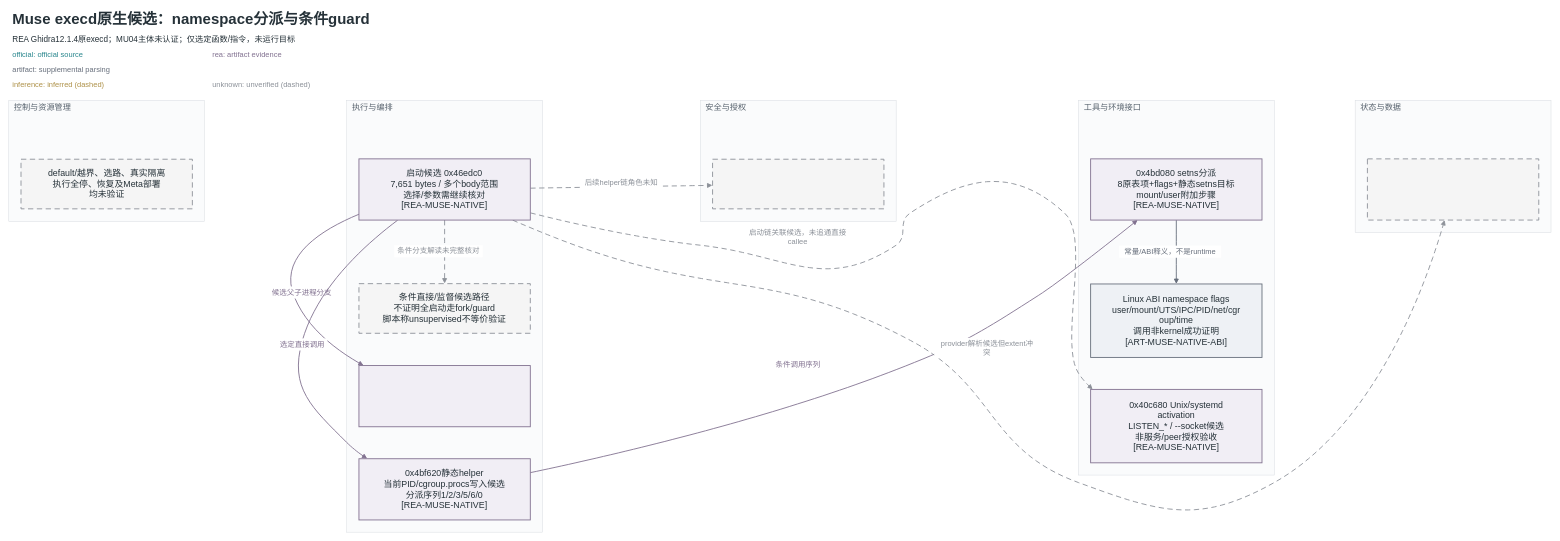
This 1560x541 diagram has some shape labels left out. The centre of each missing label's shape, as x and y in pixels:
"0x4bebf0边界冲突 19-byte body / 8,037-byte pseudo 不能称完整cgroup恢复" belongs at (1453,189).
"0x4bf390 / 0x3a3180依赖 常量/lookup非全policy证明 文件名uid-drop不作事实" belongs at (798,184).
"pipe / fork / parent-child 某guard失败kill(child,9)/exit1 仅候选分支 [REA-MUSE-NATIVE]" belongs at (444,396).
